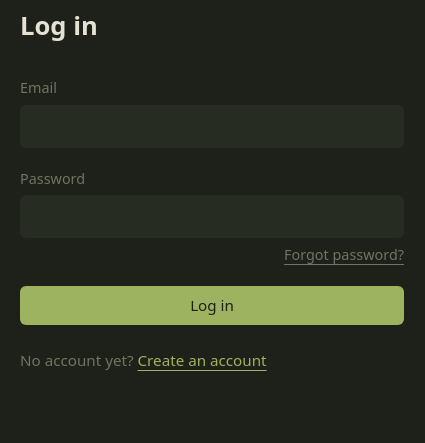
Test: LoginPage › shows field errors on submit without calling the API
Click the button "Log in". click: (212, 305)
box: [20,286,404,325]
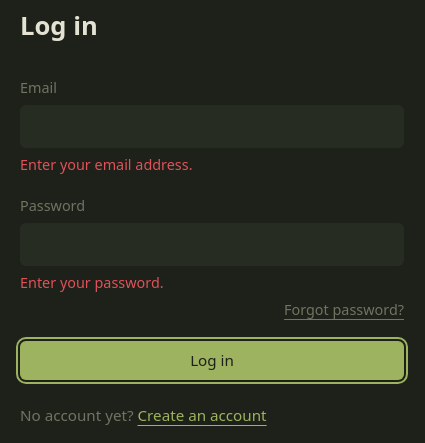
Expected: the text "Enter your email address." is shown, [20,155,192,174]
Expected: the text "Enter your password." is shown, [20,273,164,292]
